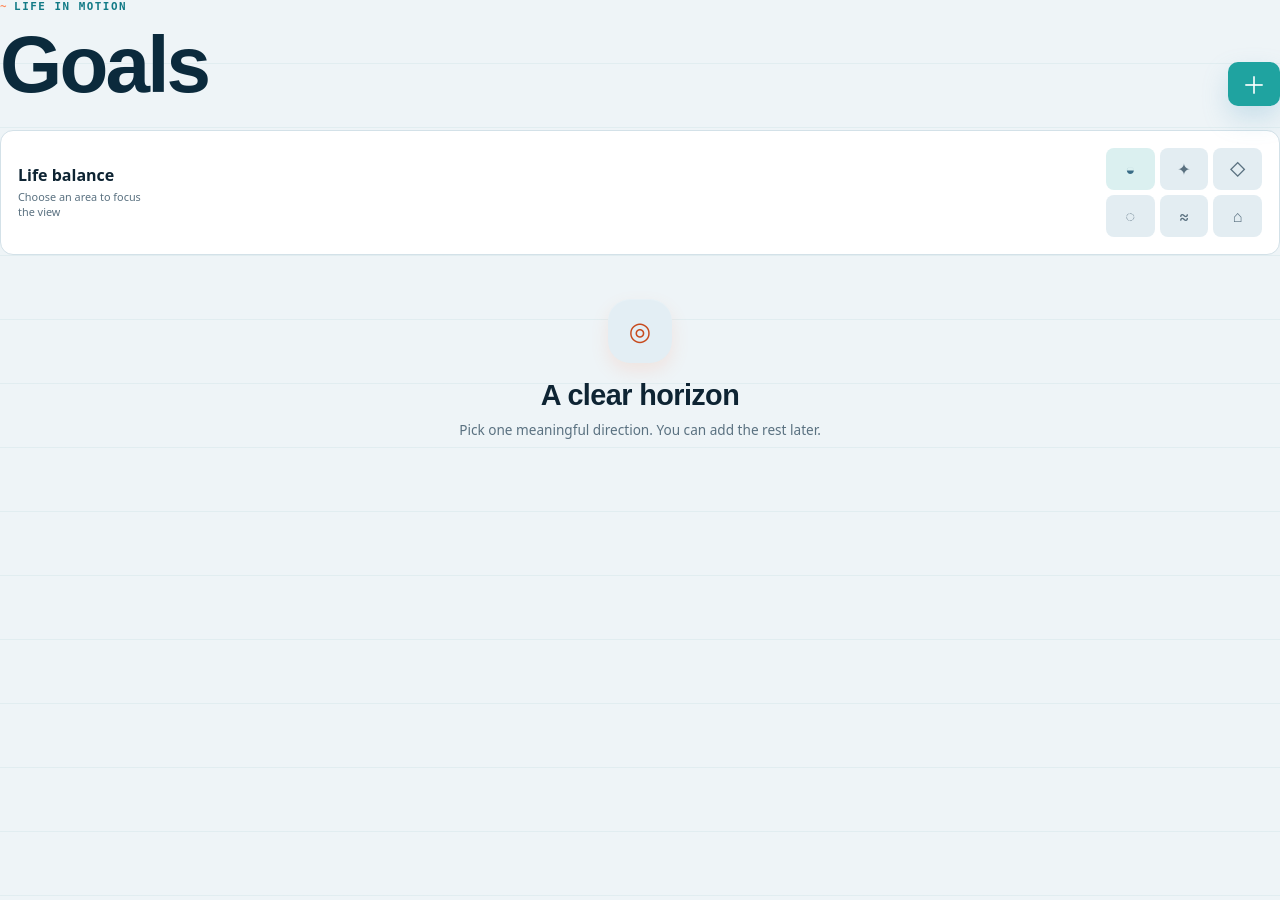
uses the generic goal form when adding a Fitness goal
The image size is (1280, 900).
Click the button named "Fitness" at (1130, 169), box [1106, 148, 1155, 190]
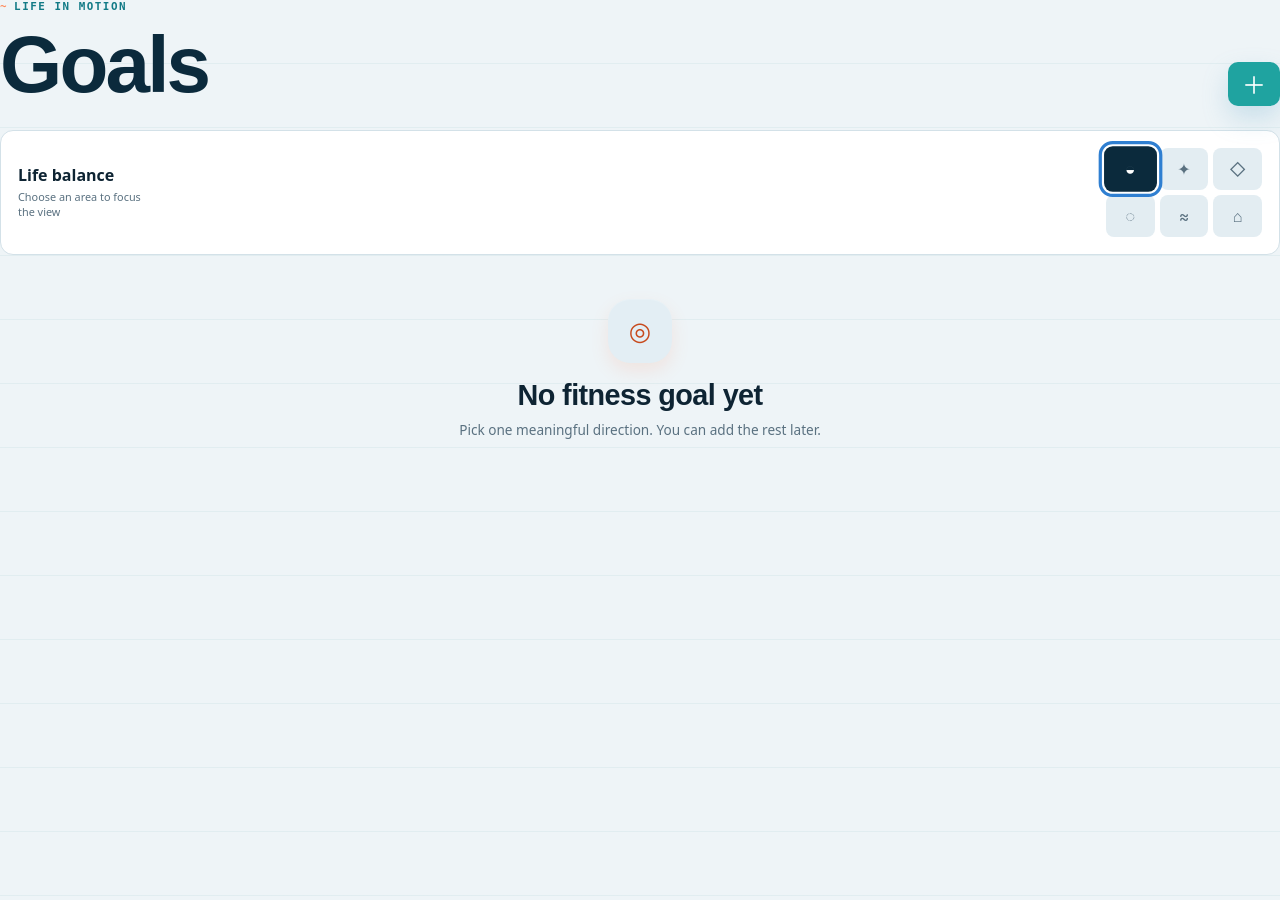
Click the button named "Add goal" at (1254, 84), box [1228, 62, 1279, 106]
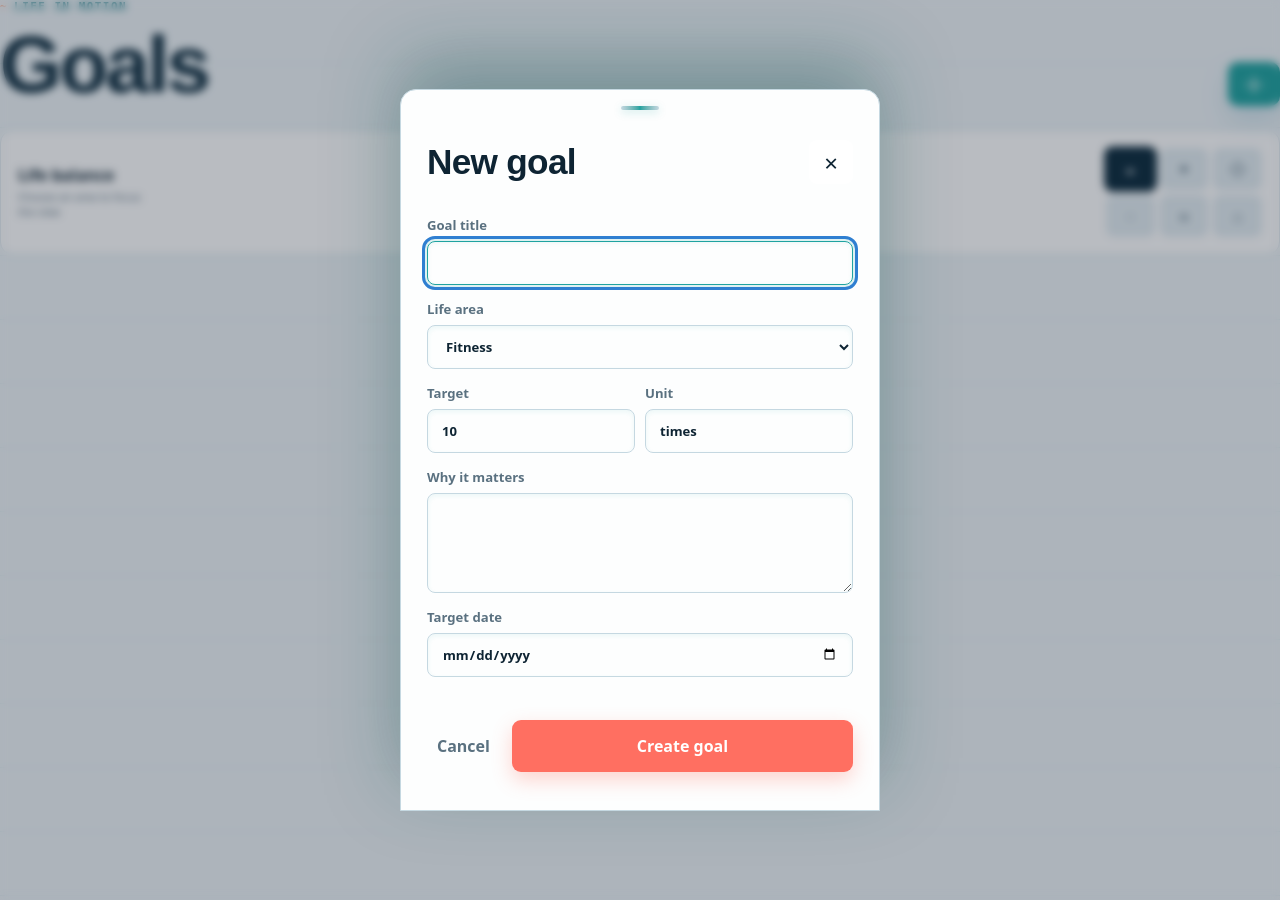
Expected: the field labelled "Goal title" is shown, [427, 241, 853, 285]
Expected: the dropdown labelled "Life area" shows "Fitness", [427, 325, 853, 369]
Expected: the number field labelled "Target" is shown, [427, 409, 635, 453]
